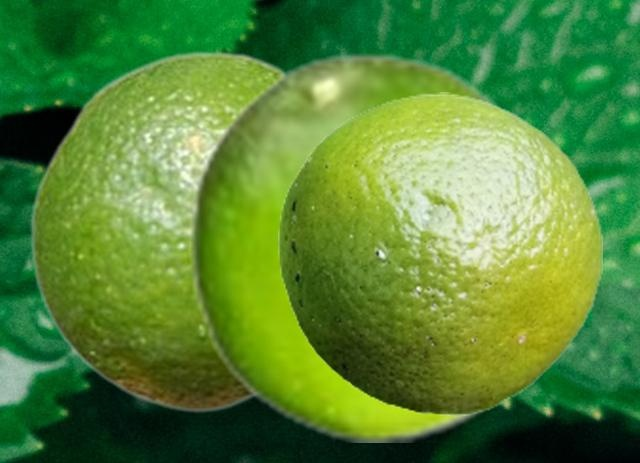calamansi: (188, 50, 521, 441), (278, 92, 601, 414), (29, 50, 285, 413)
